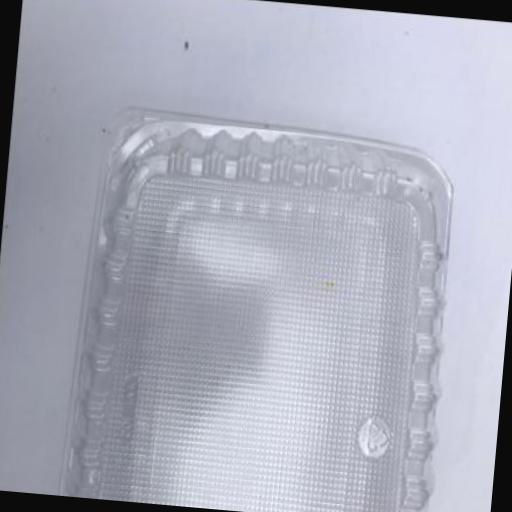plastic: (55, 101, 464, 512)
